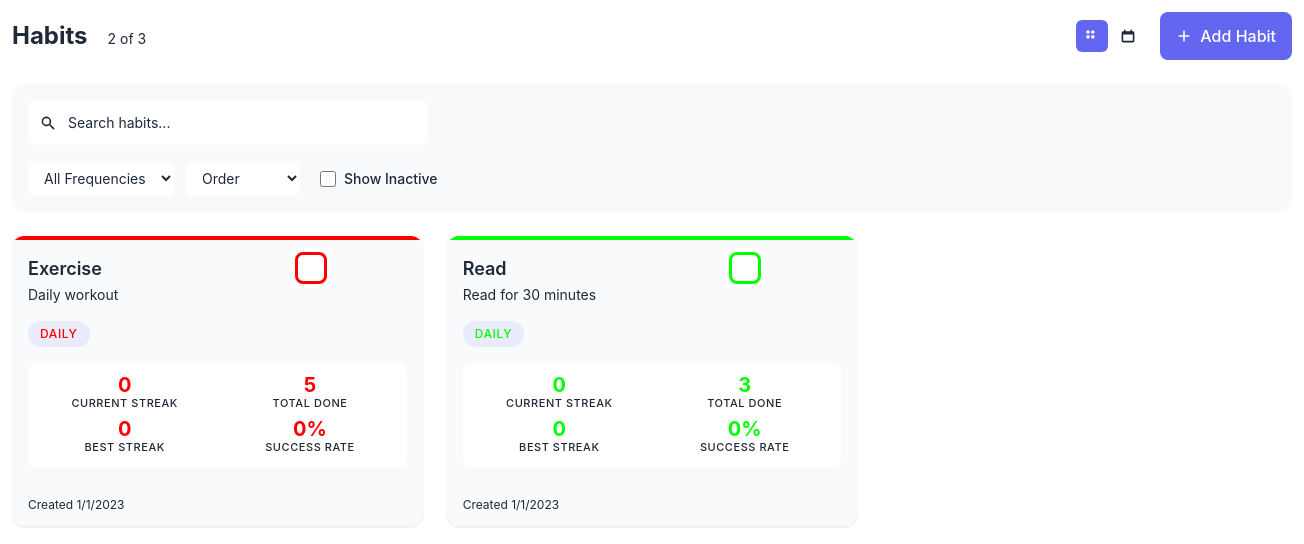
Test case: HabitList › Empty State › should show no results state when habits exist but none match filters
The width and height of the screenshot is (1304, 544).
# Search for something that doesn't exist
Type "nonexistent habit" into the field with placeholder "Search habits..." at (228, 122), box [28,100,428,145]
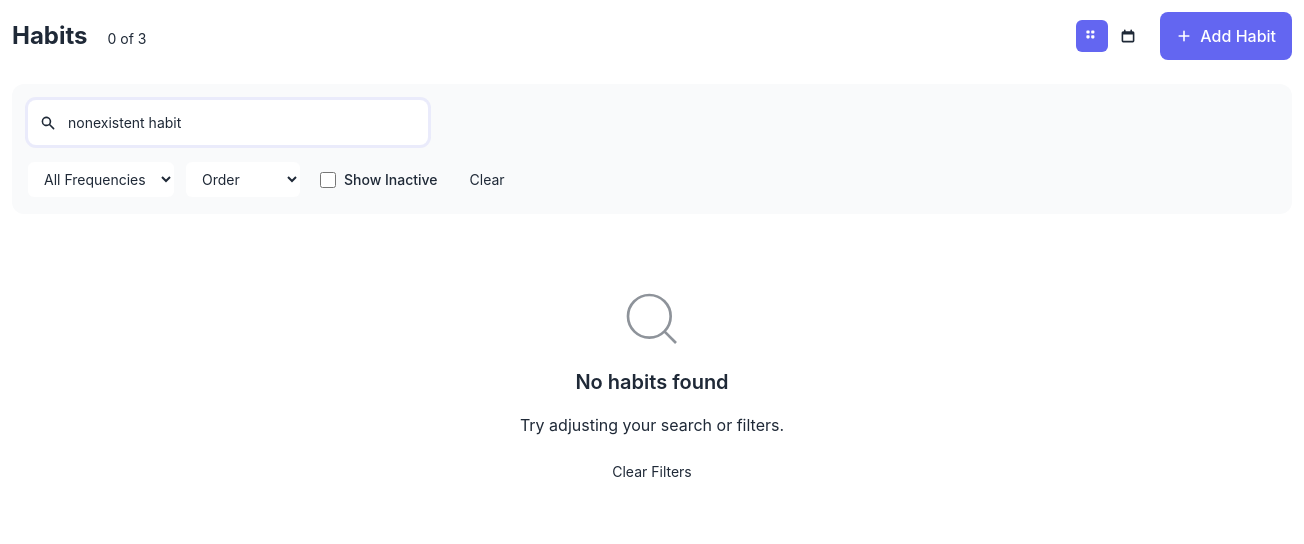
Now the heading "No habits found" is shown, box [575,366,729,396]
Now the text "Try adjusting your search or filters." is shown, box [520,412,784,436]
